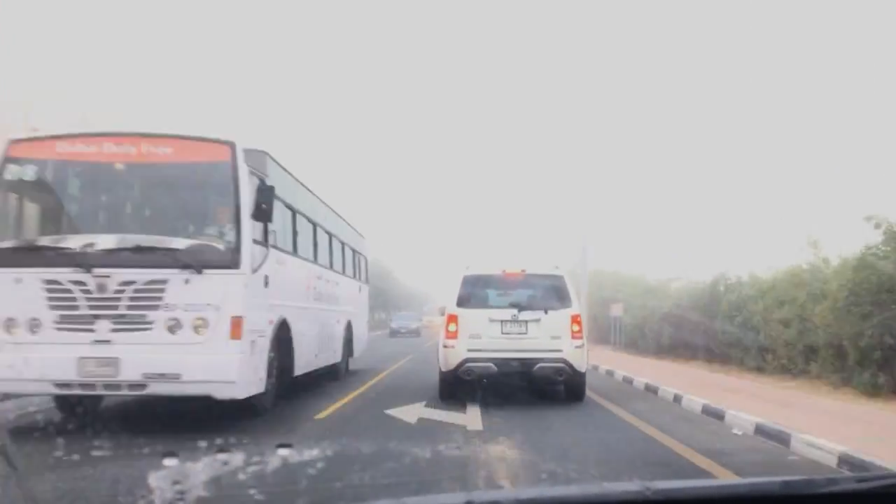bus: (1, 128, 371, 423), (420, 305, 444, 326)
car: (434, 261, 591, 405), (388, 309, 422, 339)
